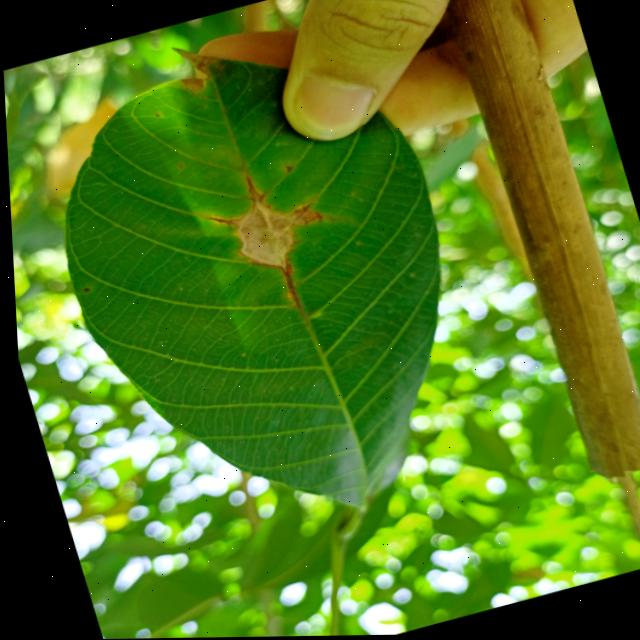Colletotrichum: (79, 286, 88, 293)
Corynespora: (246, 254, 306, 331), (235, 171, 268, 204), (197, 208, 233, 233), (293, 197, 318, 217)
Leaf-Blight: (224, 186, 330, 276)
